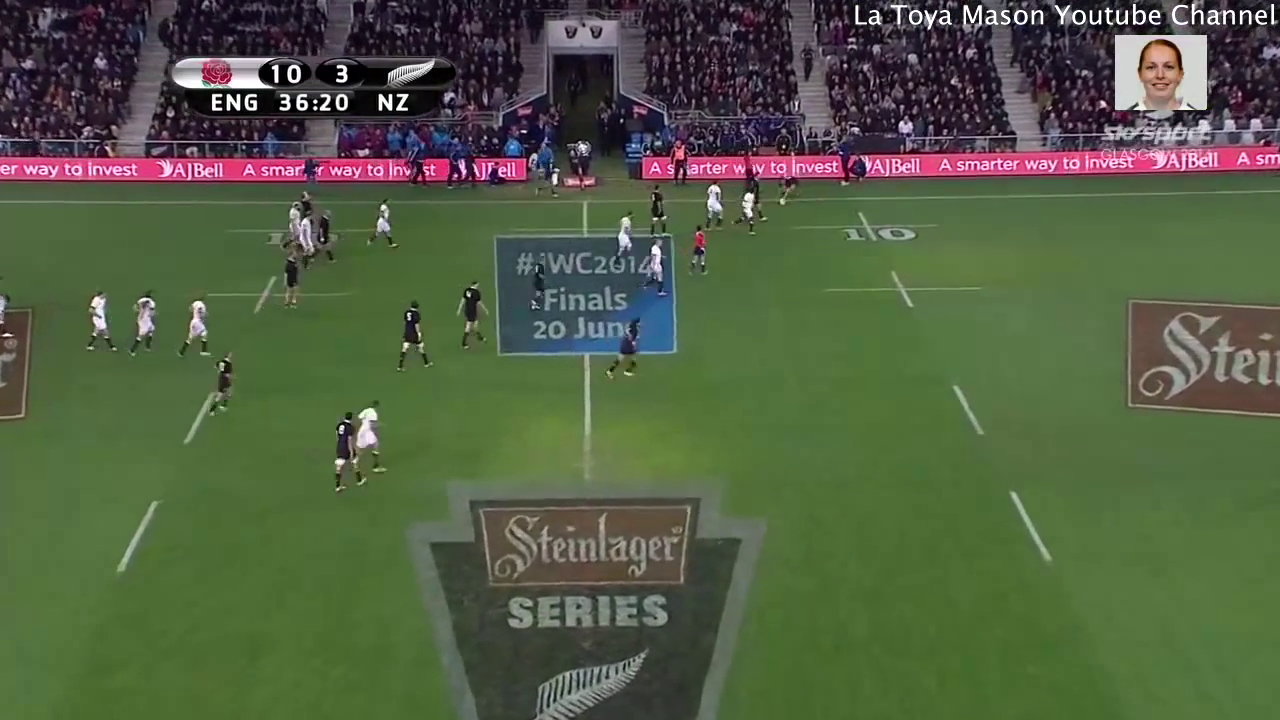10_metre: (819, 264, 988, 315), (184, 275, 359, 321), (222, 208, 388, 255), (787, 207, 950, 247)
ball: (776, 192, 788, 212)
player: (593, 310, 649, 388), (327, 407, 369, 497), (391, 295, 436, 378), (349, 396, 386, 484), (204, 341, 242, 423), (128, 279, 163, 360), (602, 201, 638, 278), (362, 195, 407, 256), (81, 284, 118, 356), (455, 277, 489, 355), (178, 291, 213, 363), (636, 234, 670, 303), (274, 247, 302, 322), (313, 203, 342, 270), (683, 224, 713, 286), (699, 176, 729, 238), (279, 196, 308, 258), (728, 185, 760, 239), (645, 184, 672, 244), (294, 210, 319, 274), (744, 173, 775, 224), (528, 253, 547, 316), (773, 173, 805, 207), (297, 192, 317, 219)
